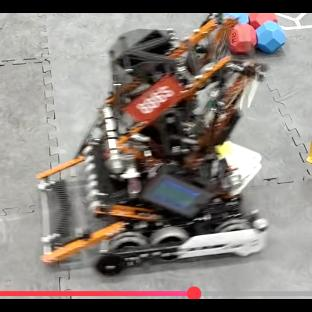Robot: (36, 13, 267, 275)
V5_BLUE: (257, 22, 286, 52), (223, 13, 249, 24)
V5_RED: (229, 24, 256, 55), (249, 13, 277, 26), (250, 13, 260, 27)
